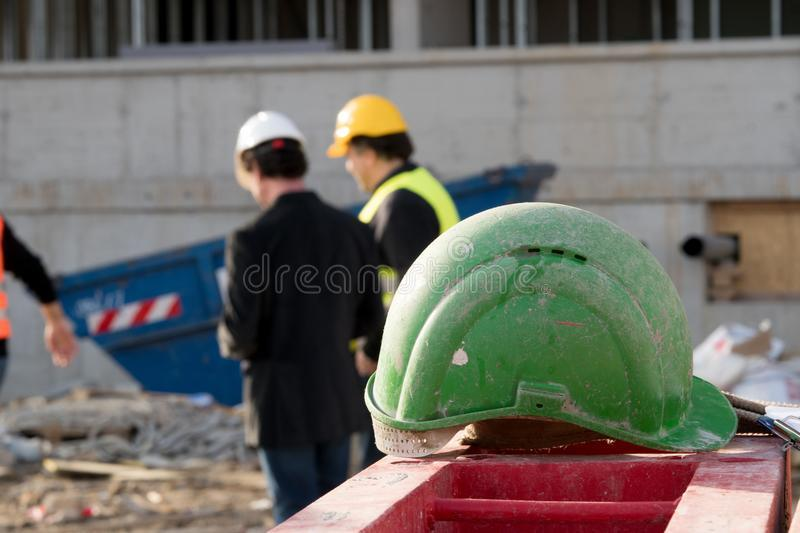helmet: (230, 110, 309, 183), (330, 94, 412, 157)
